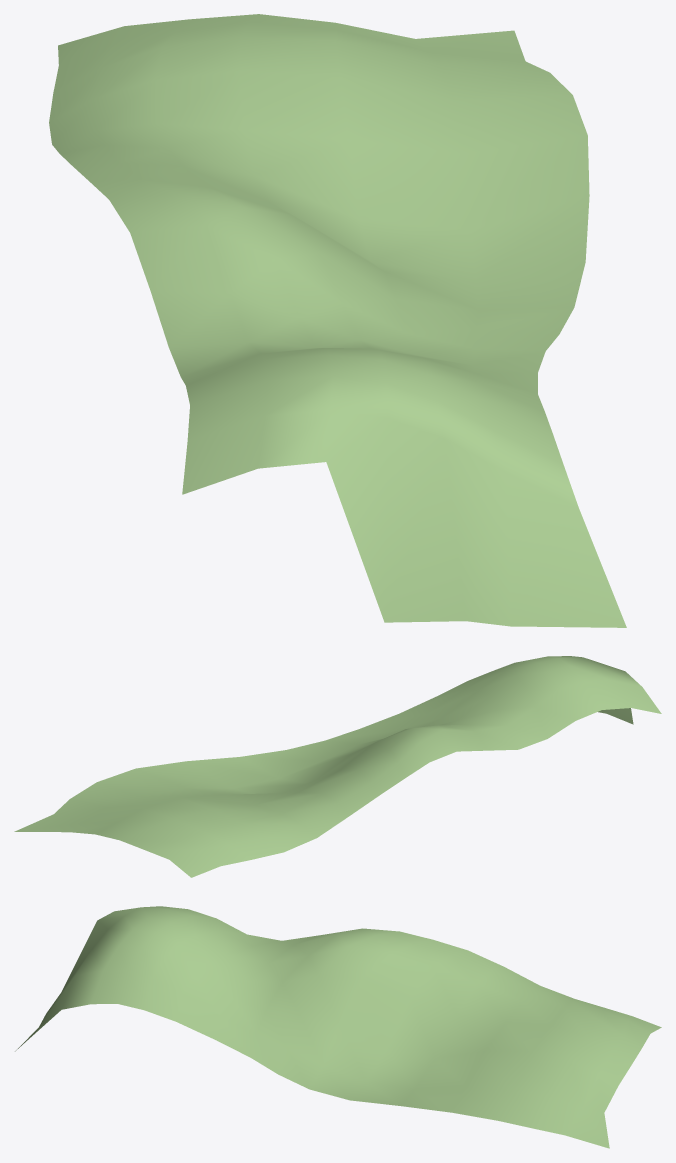
File: level_40.fbx
3 views of the same model, one above another, from view 1: azimuth 30°, elevation 25°; view 2: azimuth 150°, elevation 25°; view 3: azimuth 270°, elevation 25° (orthographic). The views are drawn at different scales.
Parts seen in each view (by area): view 1: loc_040; view 2: loc_040; view 3: loc_040.
Boxes of the visible parts, x1,y1,x2,y2 form: loc_040: (49,14,626,627); loc_040: (14,656,661,877); loc_040: (15,906,661,1148).
Size of the model in its own units: 54.27 by 12.31 by 75.28.
